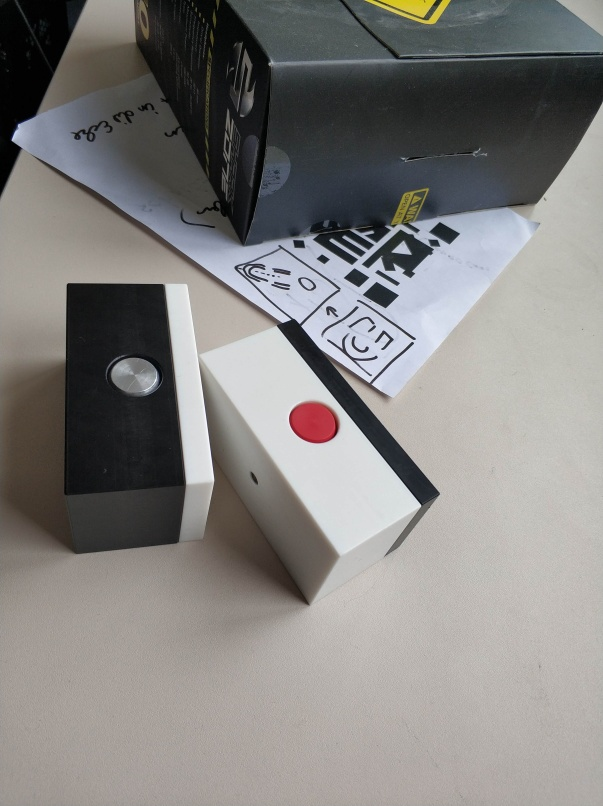black+white+red: (195, 317, 441, 612)
white+black+silver: (63, 278, 220, 556)
